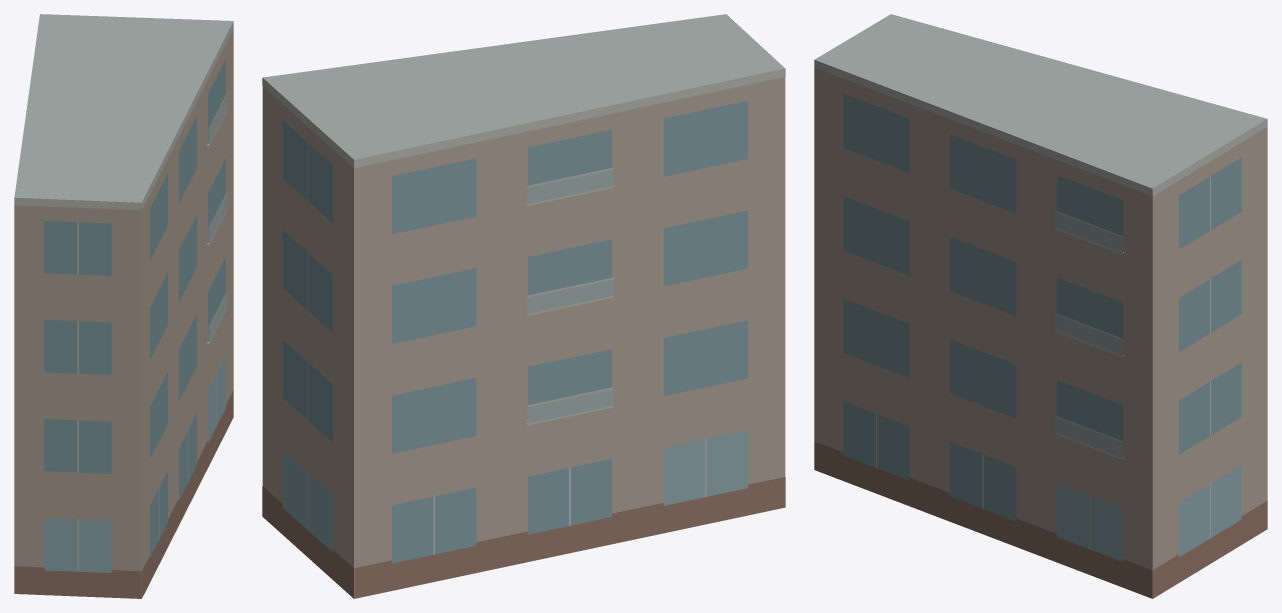
The model's file is survey-upis-32458364.glb.
3 renders of one model, left to right at view 1: azimuth 30°, elevation 25°; view 2: azimuth 150°, elevation 25°; view 3: azimuth 270°, elevation 25°, orthographic. The views are drawn at different scales.
Visible parts, largest first — view 1: survey-upis-32458364.tmp; view 2: survey-upis-32458364.tmp; view 3: survey-upis-32458364.tmp.
Part boxes in pixels (x1=…): survey-upis-32458364.tmp: x1=14, y1=14, x2=233, y2=598; survey-upis-32458364.tmp: x1=262, y1=14, x2=785, y2=598; survey-upis-32458364.tmp: x1=814, y1=14, x2=1267, y2=598.
Size of the model in its own units: 11.7 by 12.8 by 12.83.
